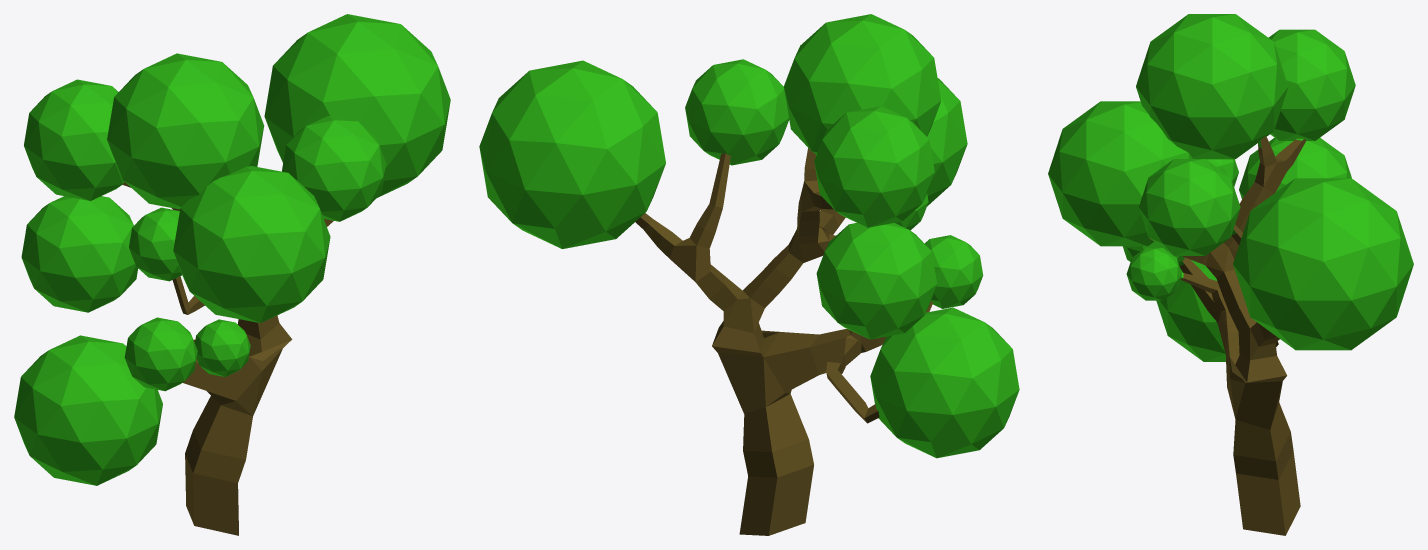
The model's file is regular tree.fbx.
3 views of the same model, side by side, from view 1: azimuth 30°, elevation 25°; view 2: azimuth 150°, elevation 25°; view 3: azimuth 270°, elevation 25° (orthographic). The views are drawn at different scales.
Parts seen in each view (by area): view 1: Cube; view 2: Cube; view 3: Cube.
Part boxes in pixels (x1,y1,x2,y2): Cube: (14, 14, 450, 535); Cube: (479, 14, 1019, 535); Cube: (1048, 14, 1413, 535).
Size of the model in its own units: 1426 by 1491 by 1031.
